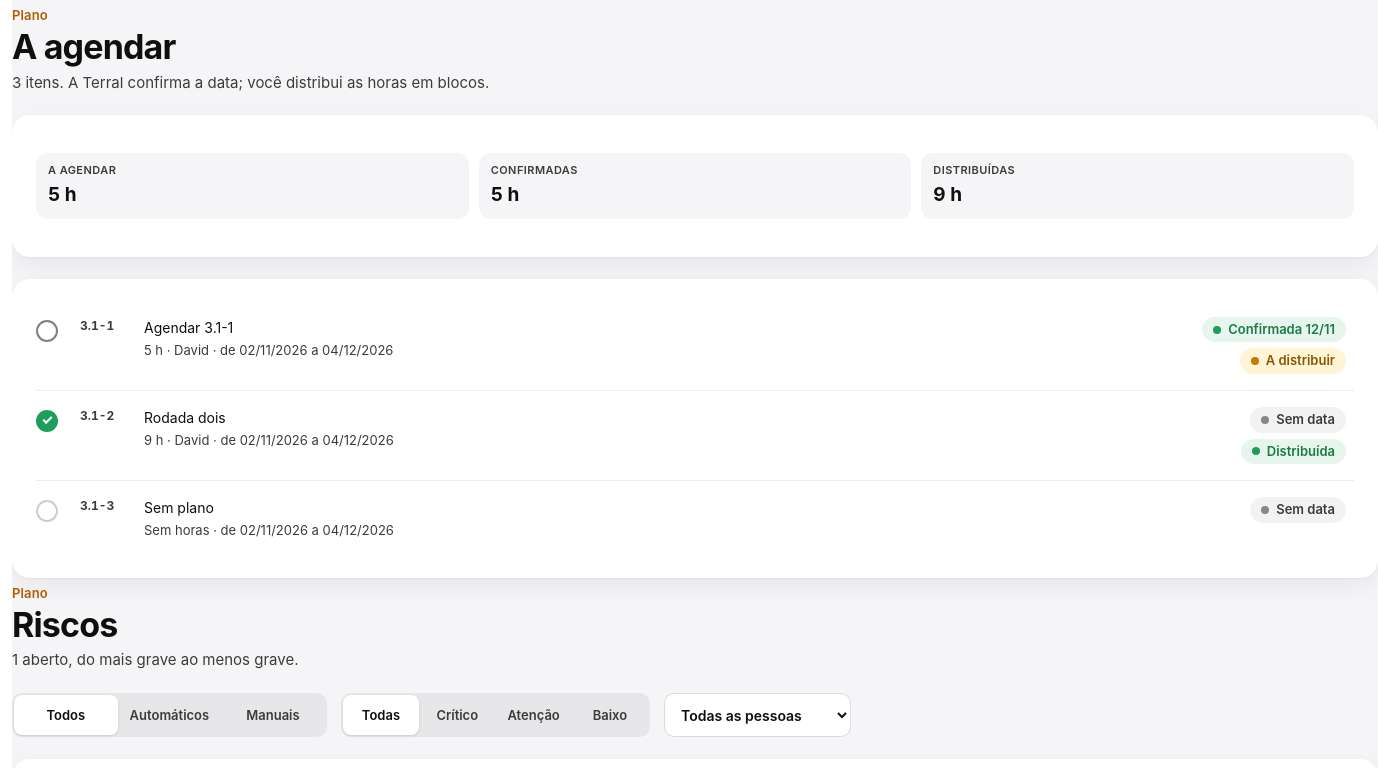
Test: A agendar › the distributed check updates risks and slack at once, offers "Desfazer", and undo puts them back
Press the mouse on the checkbox named "Distribuída: 3.1-1": (47, 331) 36,320 -> 58,342
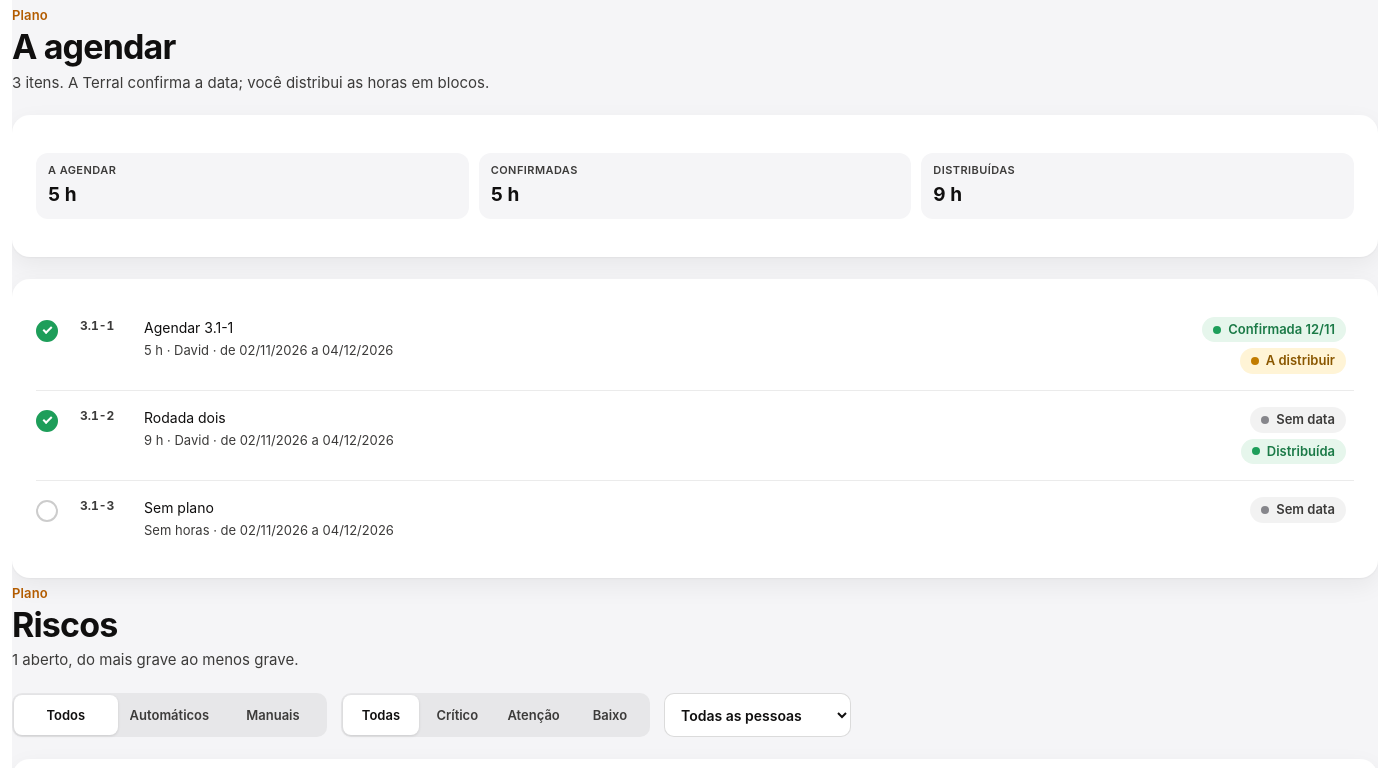
Click the checkbox named "Distribuída: 3.1-1": (47, 331) 36,320 -> 58,342
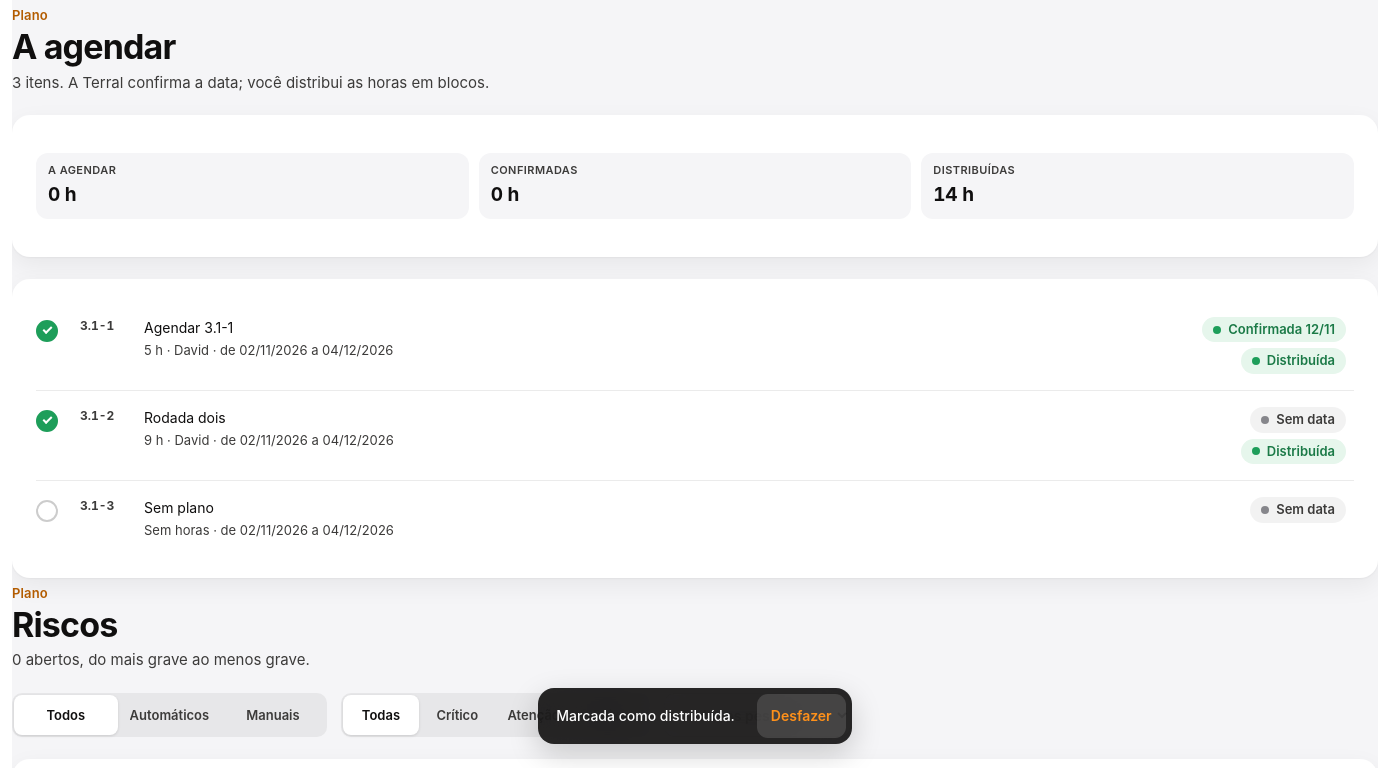
Expected: the text "confirmadas para 12/11" is not shown
Click the button "Desfazer": (801, 716) 757,694 -> 846,738
(page scrolled)
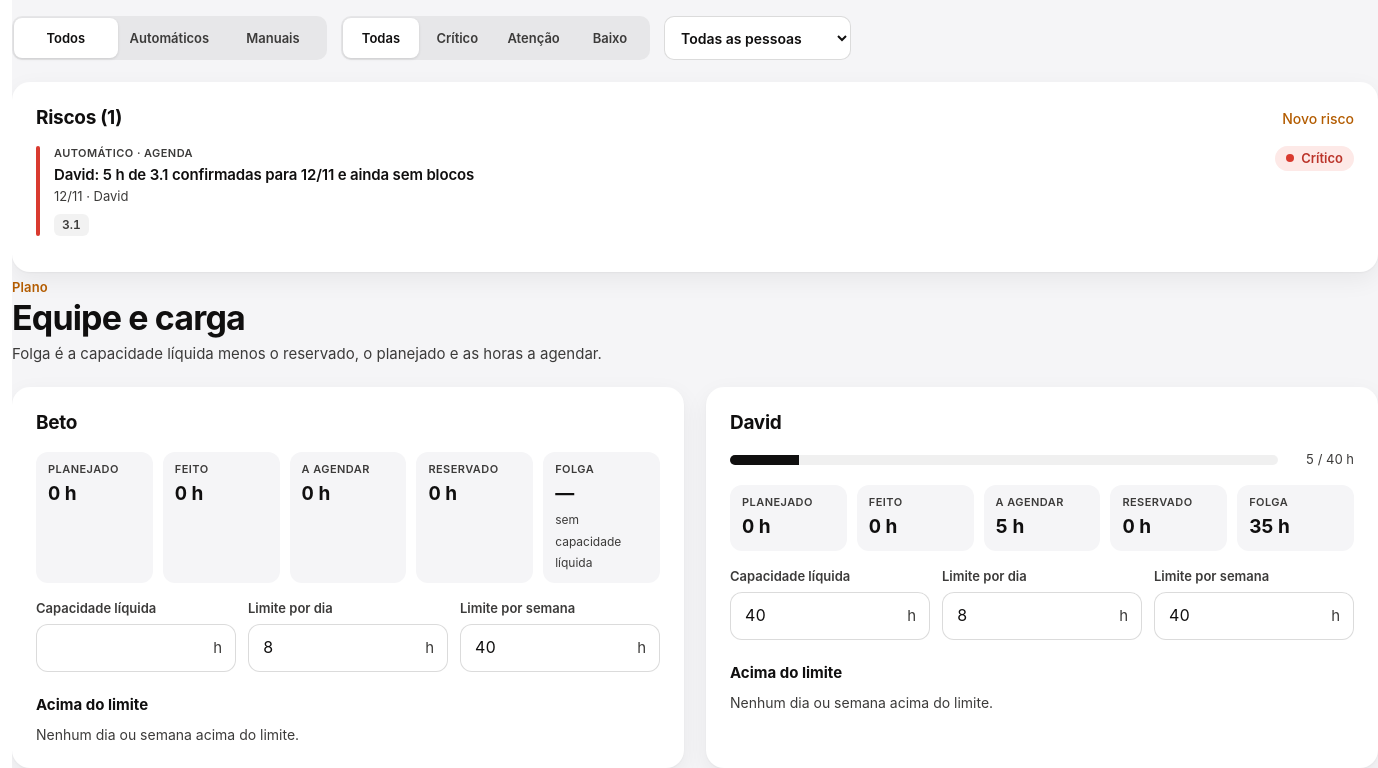
Now the text "David: 5 h de 3.1 confirmadas para 12/11 e ainda sem blocos" is shown, box 54,165 -> 474,184
